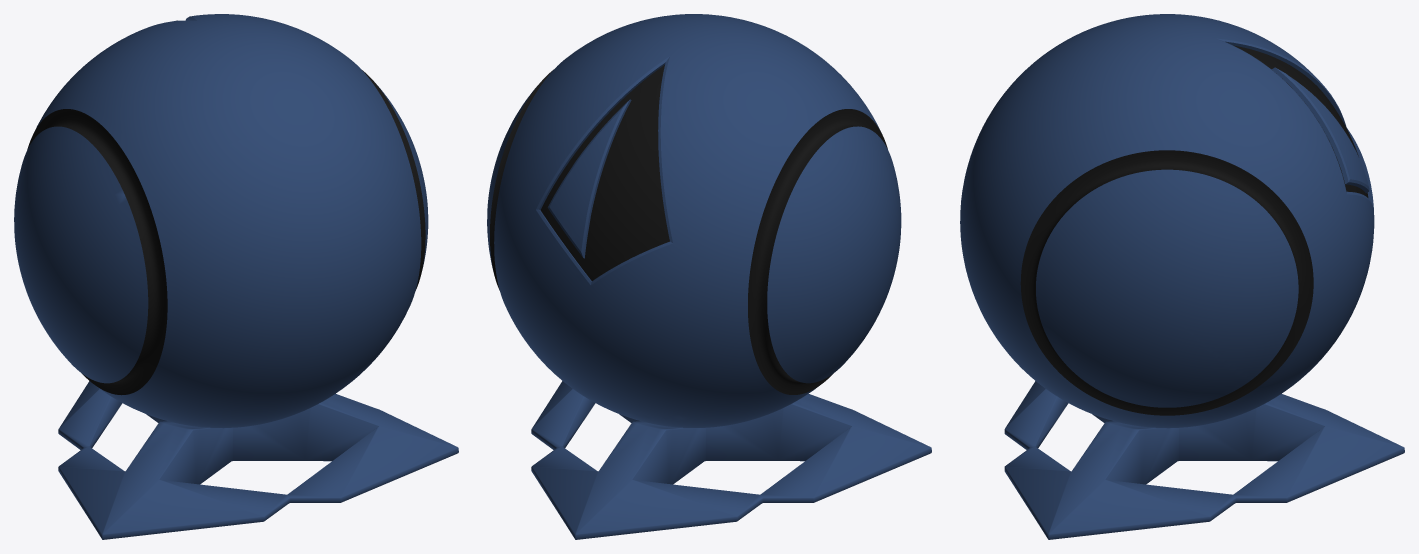
The model's file is LS_ShaderBall.FBX.
3 views of the same model, side by side, from view 1: azimuth 30°, elevation 25°; view 2: azimuth 150°, elevation 25°; view 3: azimuth 270°, elevation 25° (orthographic).
Visible parts, largest first — view 1: LS_SPHERE, BASE; view 2: LS_SPHERE, BASE; view 3: LS_SPHERE, BASE.
Part boxes in pixels (x1=…): LS_SPHERE: x1=14, y1=14, x2=428, y2=428; BASE: x1=58, y1=381, x2=458, y2=539; LS_SPHERE: x1=487, y1=14, x2=901, y2=427; BASE: x1=531, y1=381, x2=931, y2=539; LS_SPHERE: x1=960, y1=14, x2=1374, y2=428; BASE: x1=1004, y1=381, x2=1404, y2=539.
Size of the model in its own units: 80.09 by 89.55 by 85.99.
